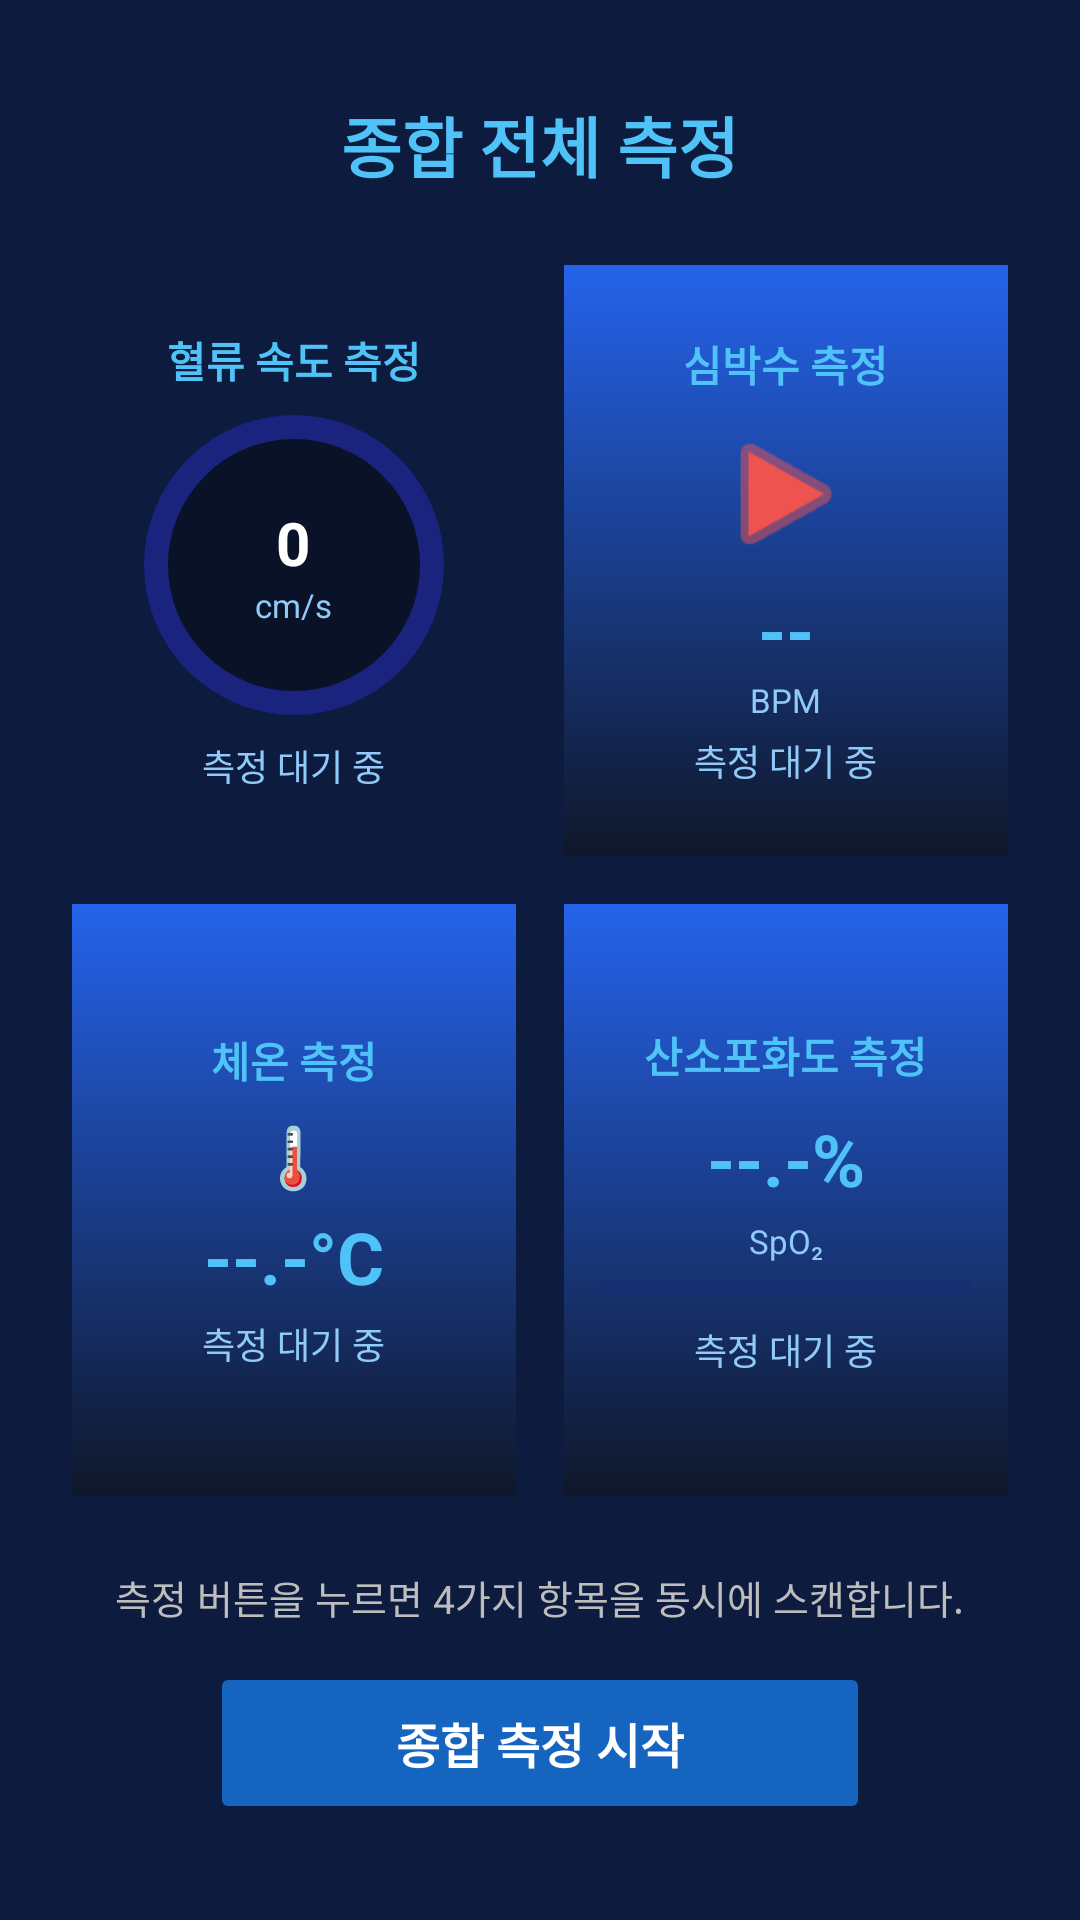

Icon click points for this 1080*1920 phone screenshot, format (x,y):
play: (786,494)
